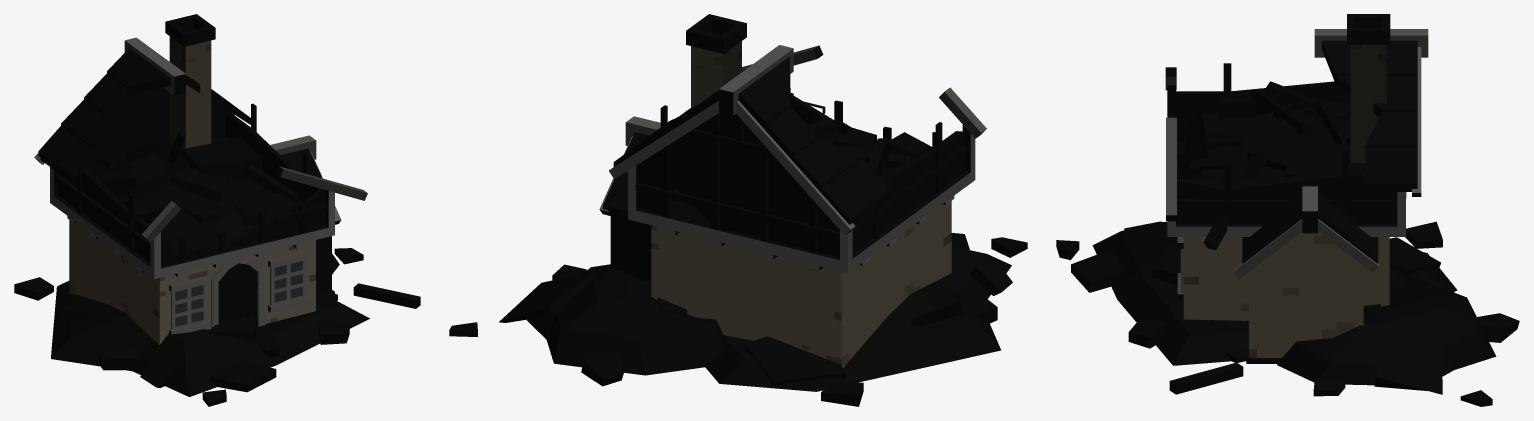
File: House_Burntdown.gltf
3 renders of one model, left to right at view 1: azimuth 30°, elevation 25°; view 2: azimuth 150°, elevation 25°; view 3: azimuth 270°, elevation 25°, orthographic. The views are drawn at different scales.
Visible parts, largest first — view 1: SF_Bld_House_Burntdown_01; view 2: SF_Bld_House_Burntdown_01; view 3: SF_Bld_House_Burntdown_01.
Boxes of the visible parts, bbox=[...] form: SF_Bld_House_Burntdown_01: bbox=[14, 14, 420, 406]; SF_Bld_House_Burntdown_01: bbox=[449, 14, 1027, 406]; SF_Bld_House_Burntdown_01: bbox=[1056, 14, 1519, 406].
Size of the model in its own units: 0.1777 by 0.1217 by 0.176.
Materials: 1 (1 with a texture image).
